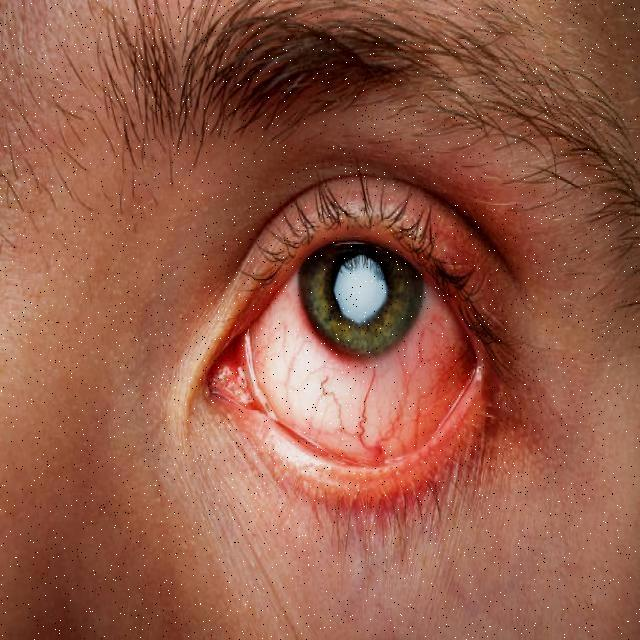Conjunctivitis: (208, 235, 501, 472)
